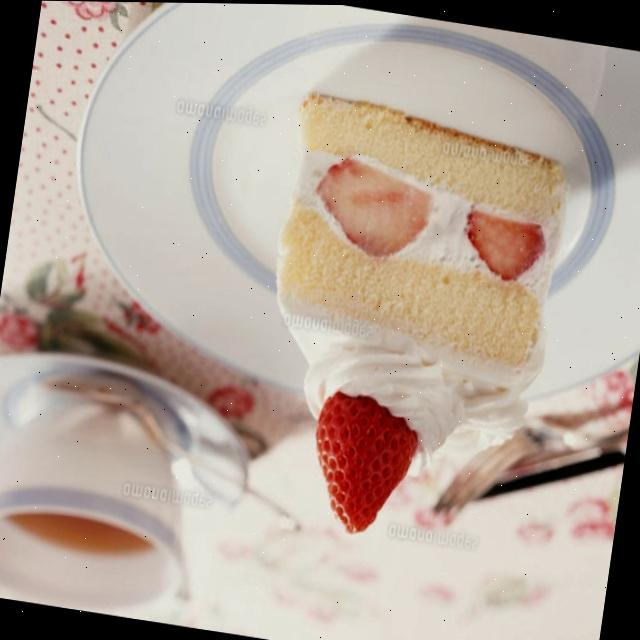蛋糕甜品: (34, 0, 640, 596)
